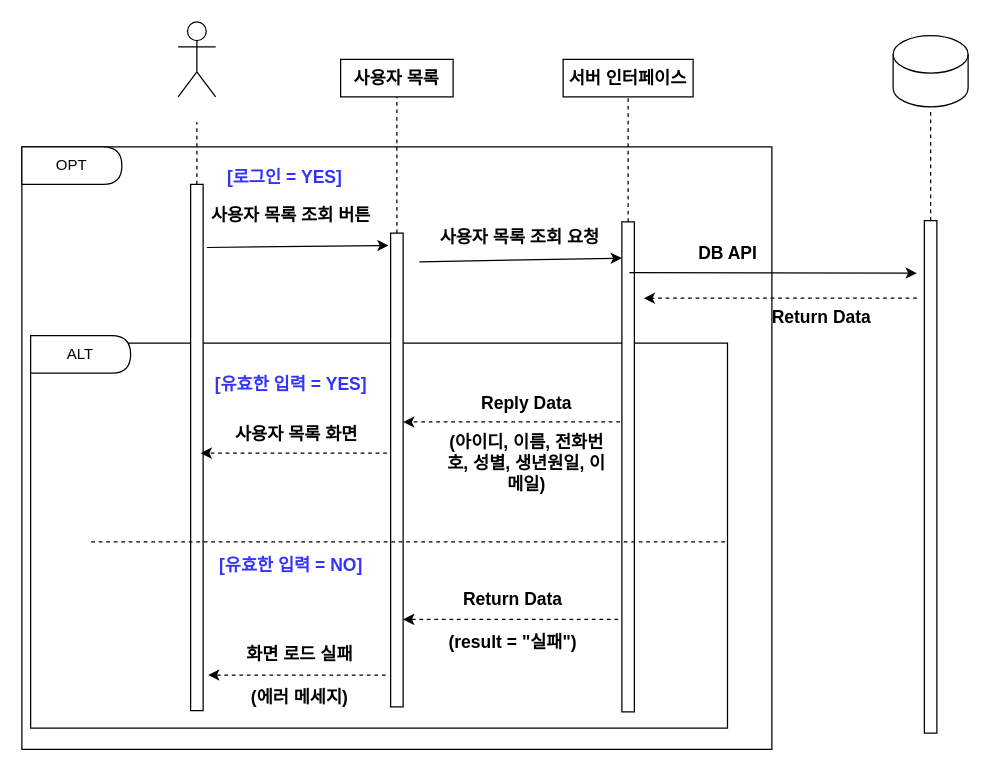
The diagram is 990 pixels wide and 771 high, and some of its shapes have lost their labels. Each missing label, with the centre of its shape:
"Server DB" belongs at (x=930, y=70).
"구매자" belongs at (x=196, y=59).
